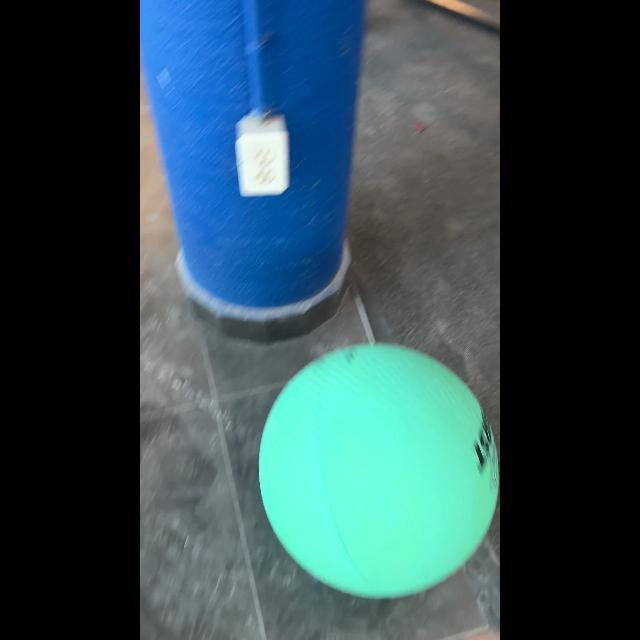ALGAE: (257, 342, 498, 600)
